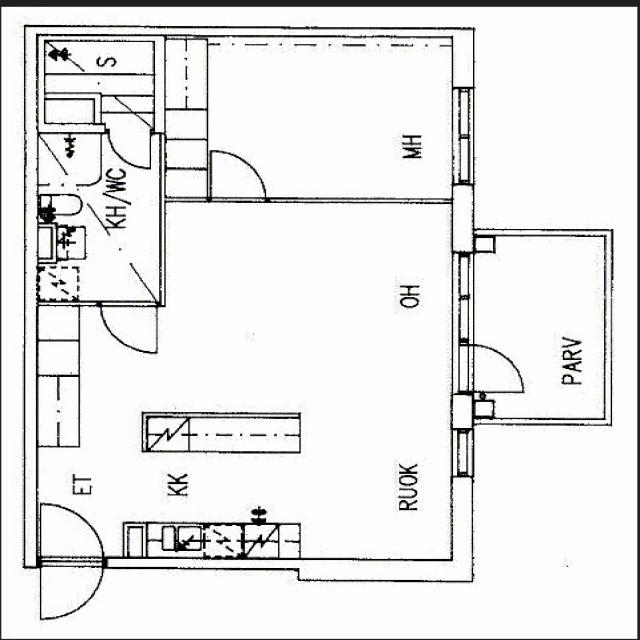door: (39, 560, 103, 624), (39, 506, 103, 569), (452, 345, 531, 394), (99, 302, 156, 354), (211, 150, 265, 202), (106, 124, 150, 169)
